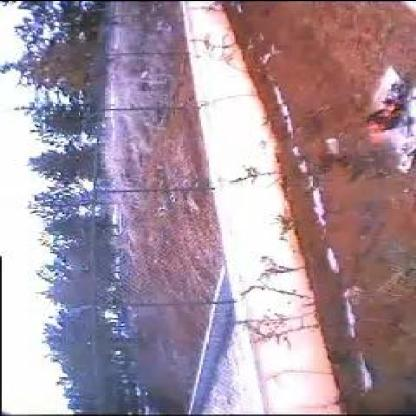foggia-v2-map80-epoch100 - v1 4323: (368, 118, 384, 142)
